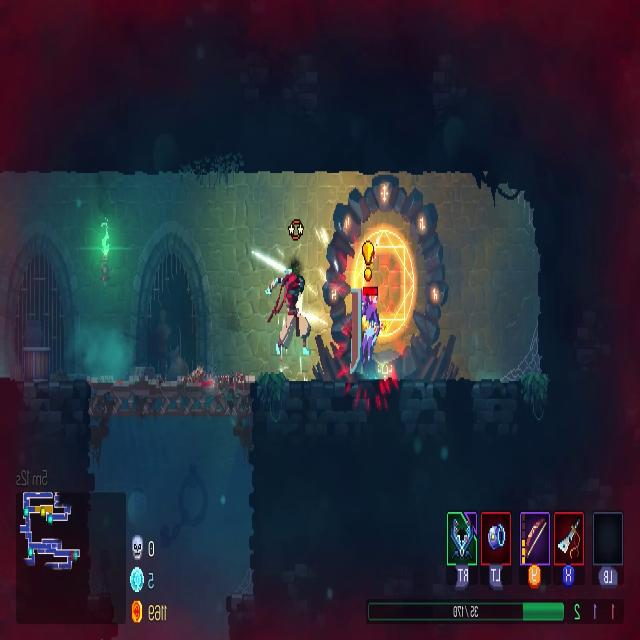agents: (267, 266, 308, 356)
enemy_purple_shield: (342, 287, 382, 379)
